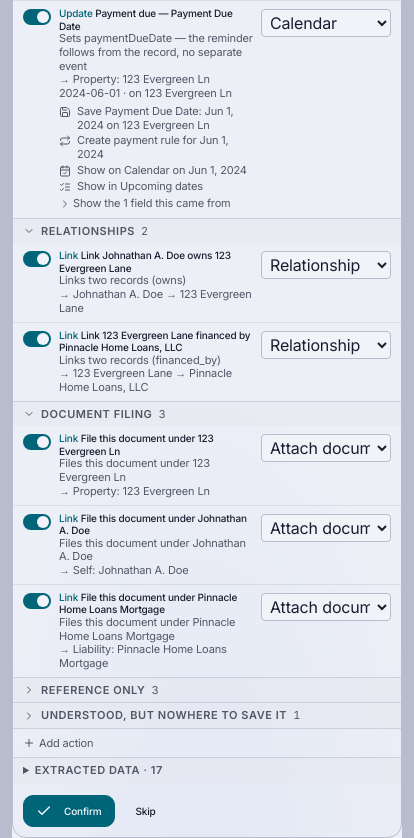
+ Add action — routing the engine did not propose › will not add an action with nowhere to put it
(page scrolled)
Click the button with test id "add-action-open" at point(66, 743), box [13,729,401,757]
(page scrolled)
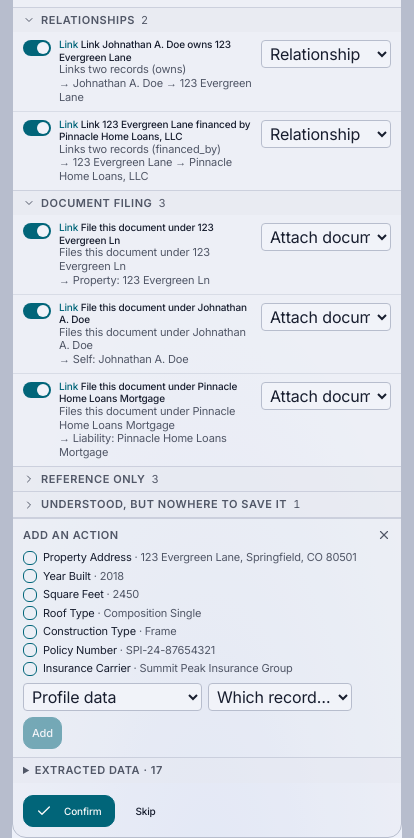
expect the button with test id "add-action-submit" is disabled: met, box [23,717,62,749]
